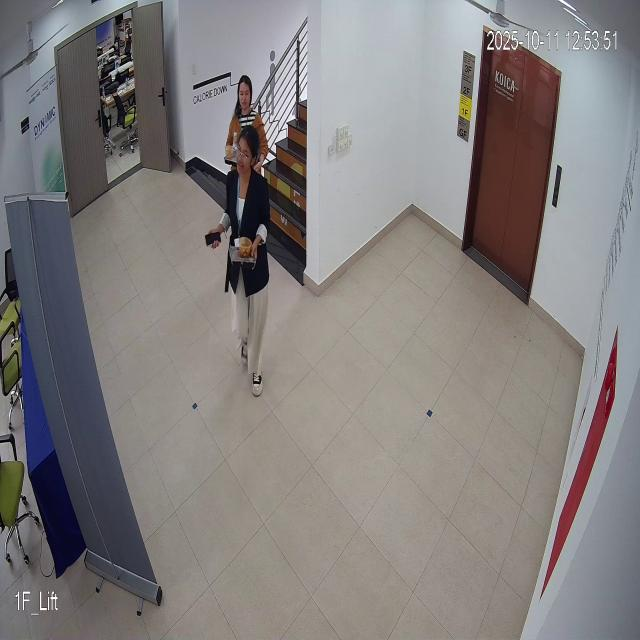face: (232, 118, 261, 186), (237, 71, 254, 113)
